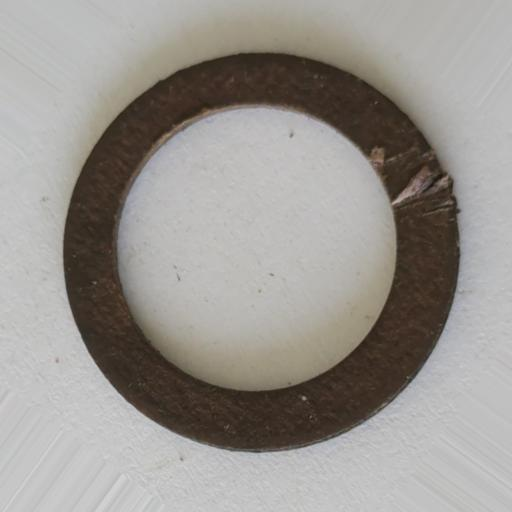defect: (369, 146, 459, 216)
